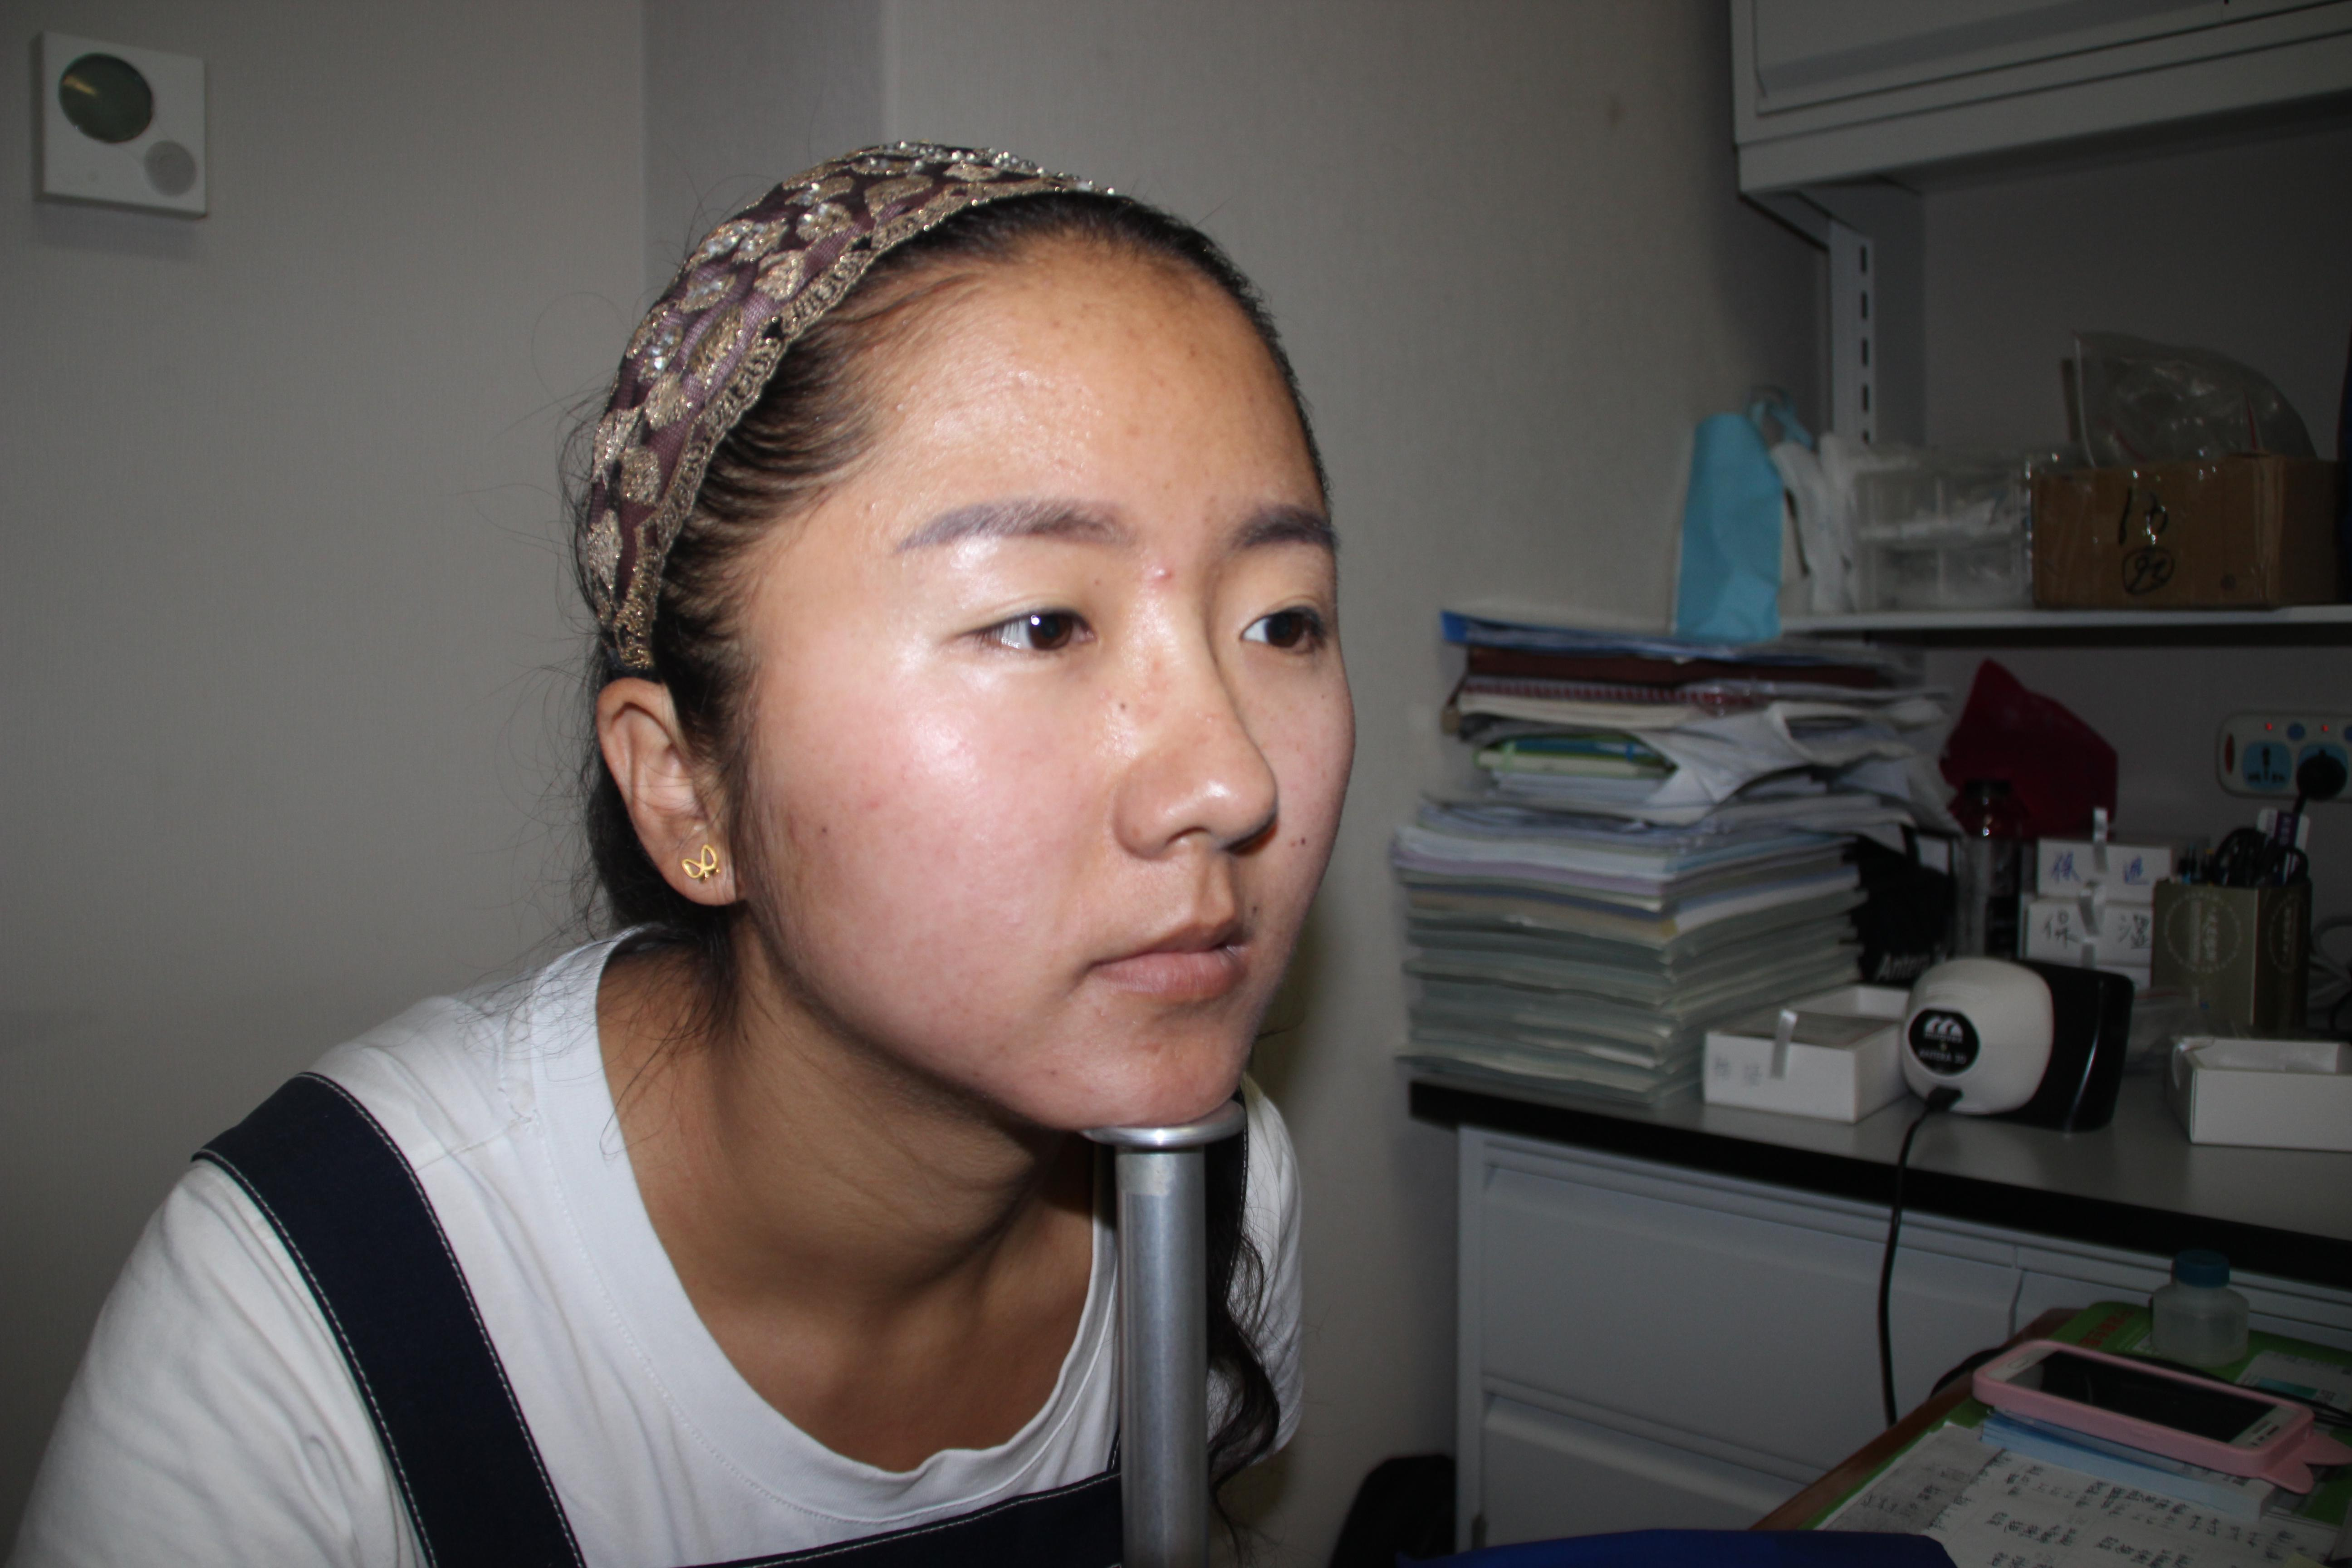fore: (770, 786, 838, 868), (1138, 542, 1185, 593)
